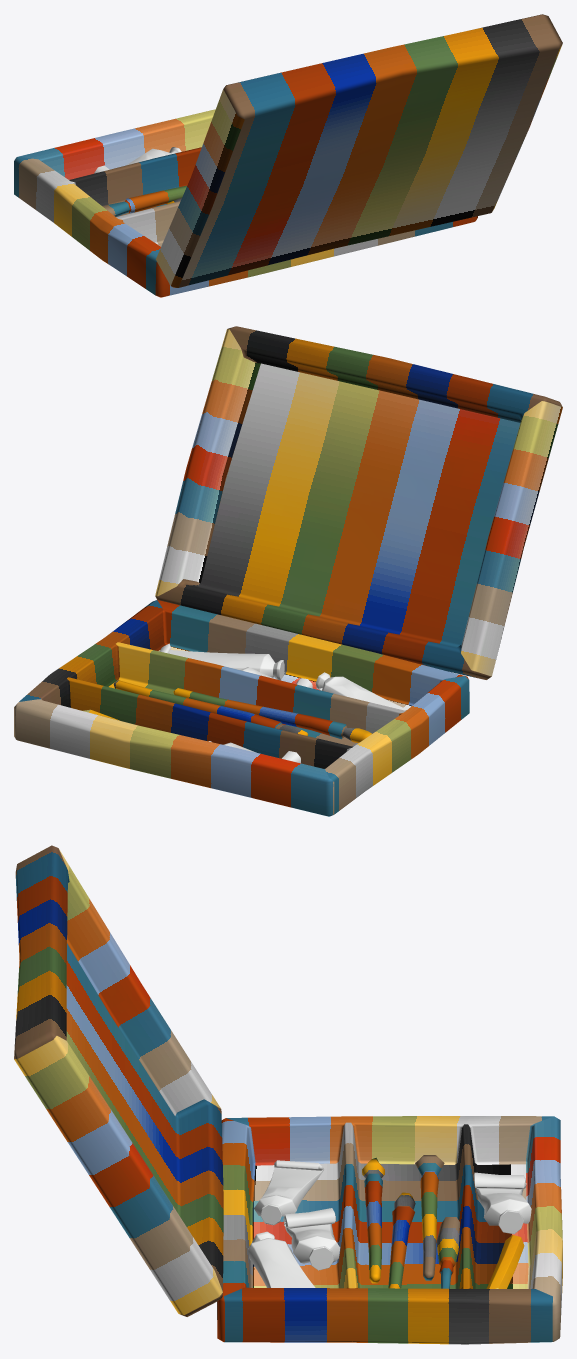
File: P_AP31PaintingSet.glb
The picture shows the model from 3 angles, top to bottom: view 1: azimuth 30°, elevation 25°; view 2: azimuth 150°, elevation 25°; view 3: azimuth 270°, elevation 25°; orthographic projection. The views are drawn at different scales.
Parts seen in each view (by area): view 1: P_AP31PaintingSet; view 2: P_AP31PaintingSet; view 3: P_AP31PaintingSet.
Part boxes in pixels (left/top/right/bottom): P_AP31PaintingSet: left=14, top=14, right=562, bottom=297; P_AP31PaintingSet: left=14, top=326, right=562, bottom=816; P_AP31PaintingSet: left=14, top=845, right=562, bottom=1344.
Size of the model in its own units: 0.5359 by 0.4169 by 0.659.
1 material, 1 textured.
